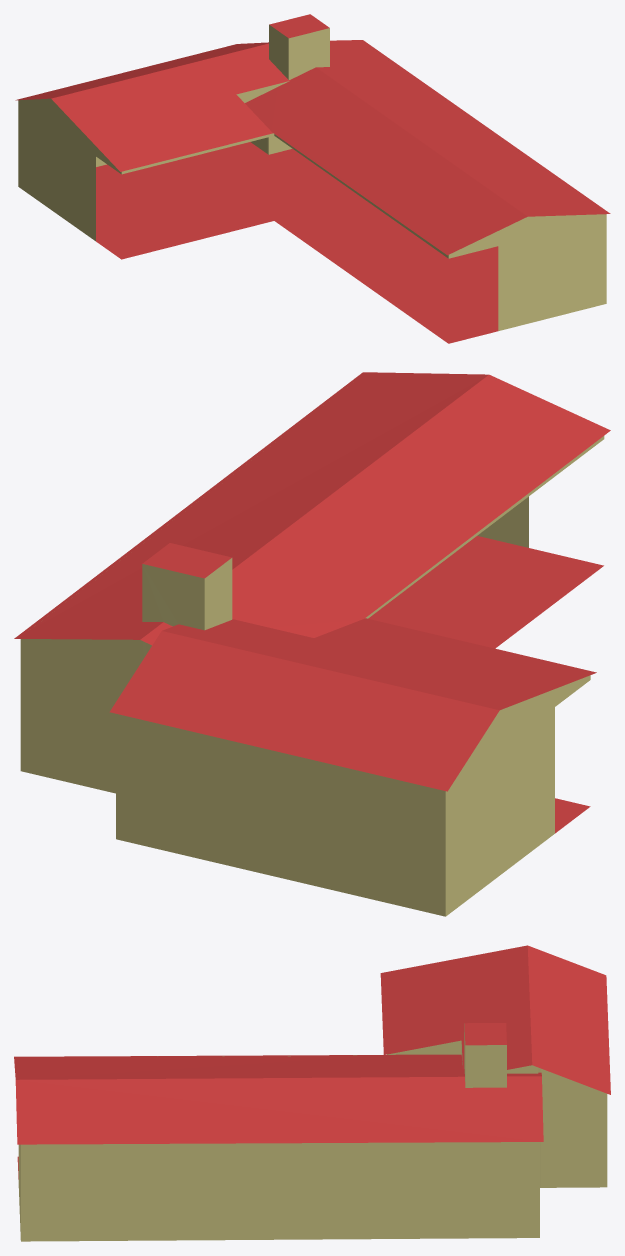
The picture shows the model from 3 angles, top to bottom: view 1: azimuth 30°, elevation 25°; view 2: azimuth 150°, elevation 25°; view 3: azimuth 270°, elevation 25°; orthographic projection. The views are drawn at different scales.
Size of the model in its own units: 28.87 by 41.87 by 12.19.
